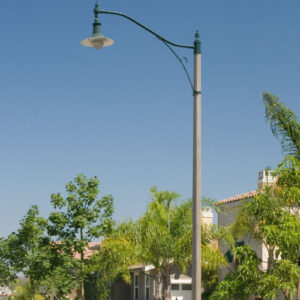light_pole: (184, 27, 211, 299)
